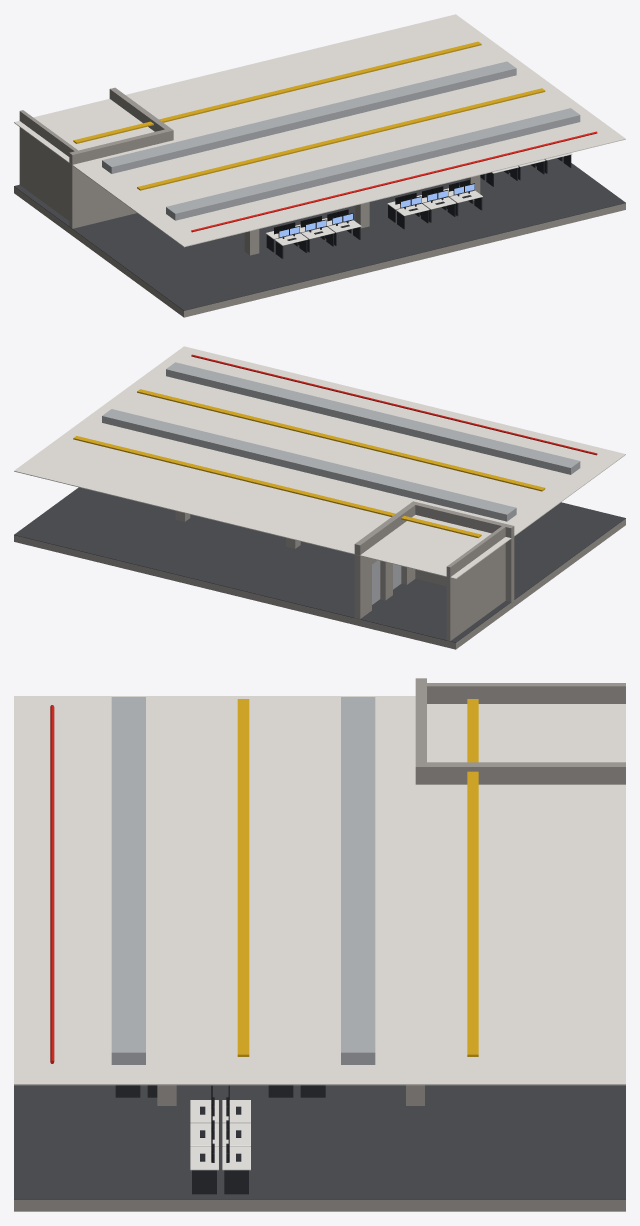
The picture shows the model from 3 angles, top to bottom: view 1: azimuth 30°, elevation 25°; view 2: azimuth 150°, elevation 25°; view 3: azimuth 270°, elevation 25°; orthographic projection. The views are drawn at different scales.
Parts seen in each view (by area): view 1: LV_L3, screen_office.002; view 2: LV_L3; view 3: LV_L3.
Boxes of the visible parts, x1,y1,x2,y2 form: LV_L3: (14,14,625,317); screen_office.002: (279,184,474,237); LV_L3: (14,346,625,649); LV_L3: (14,678,625,1211).
Bounding box in the file's own units: 24 × 4.2 × 16.
